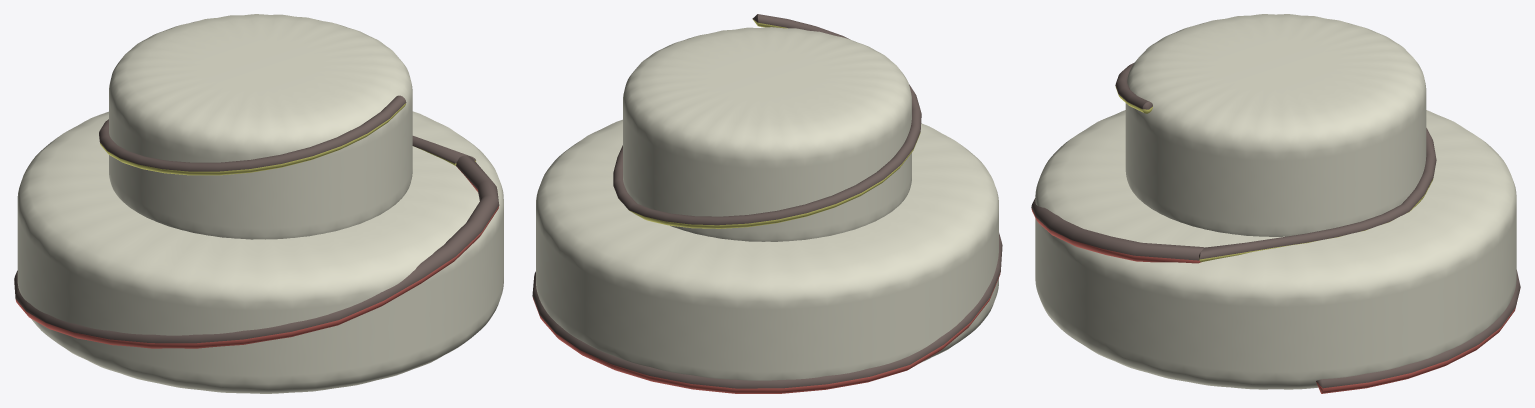
Rendered from cake0004.glb.
3 renders of one model, left to right at view 1: azimuth 30°, elevation 25°; view 2: azimuth 150°, elevation 25°; view 3: azimuth 270°, elevation 25°, orthographic. The views are drawn at different scales.
Visible parts, largest first — view 1: Cylinder (×2), Torus.1-Mat.1, Torus-Mat.1, Torus.1-Mat.3, Torus-Mat.2; view 2: Cylinder (×2), Torus-Mat.1, Torus.1-Mat.1, Torus.1-Mat.3, Torus-Mat.2; view 3: Cylinder (×2), Torus.1-Mat.1, Torus-Mat.1, Torus.1-Mat.3, Torus-Mat.2.
Part boxes in pixels (<box>): Cylinder (×2): <box>17,14,503,393</box>; Torus.1-Mat.1: <box>14,155,499,343</box>; Torus-Mat.1: <box>99,95,475,171</box>; Torus.1-Mat.3: <box>15,166,498,348</box>; Torus-Mat.2: <box>100,103,475,175</box>; Cylinder (×2): <box>536,27,998,380</box>; Torus-Mat.1: <box>613,14,921,225</box>; Torus.1-Mat.1: <box>532,233,1002,388</box>; Torus.1-Mat.3: <box>532,273,1000,393</box>; Torus-Mat.2: <box>620,19,920,228</box>; Cylinder (×2): <box>1035,14,1516,389</box>; Torus.1-Mat.1: <box>1031,198,1520,388</box>; Torus-Mat.1: <box>1115,63,1436,259</box>; Torus.1-Mat.3: <box>1031,208,1515,393</box>; Torus-Mat.2: <box>1115,87,1433,262</box>.
Size of the model in its own units: 3967 by 2144 by 4000.
